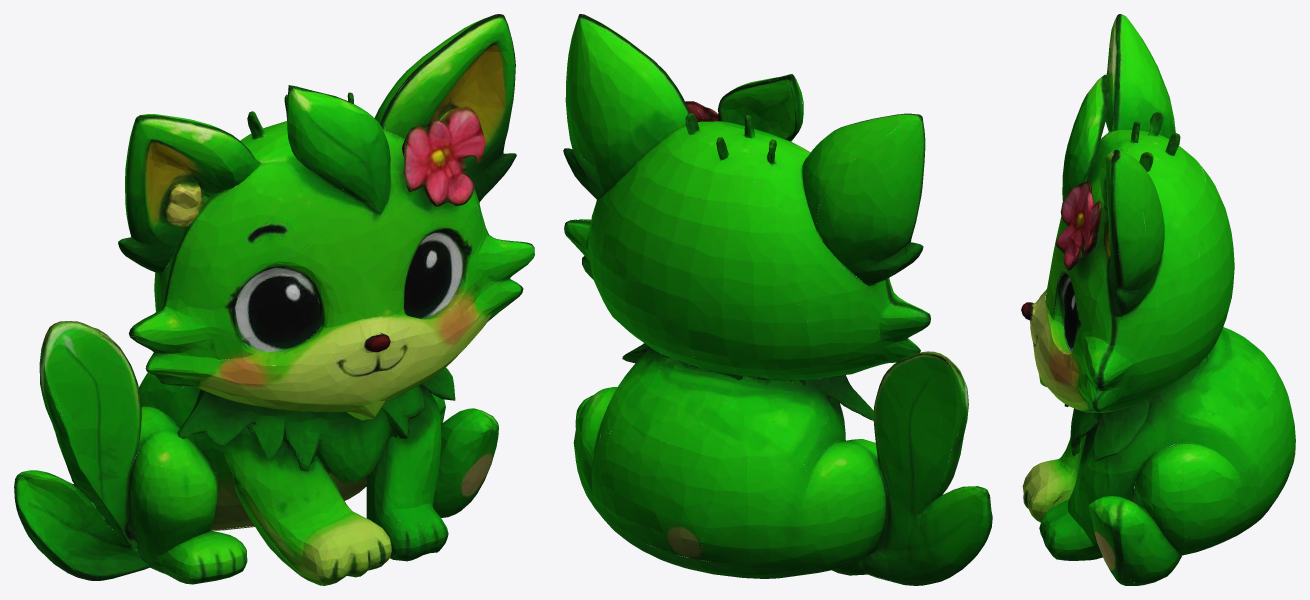
File: char-Mossi.glb
The picture shows the model from 3 angles, left to right: view 1: azimuth 30°, elevation 25°; view 2: azimuth 150°, elevation 25°; view 3: azimuth 270°, elevation 25°; orthographic projection. The views are drawn at different scales.
Visible parts, largest first — view 1: geometry_0.013; view 2: geometry_0.013; view 3: geometry_0.013.
Part boxes in pixels (left/top/right/bottom): geometry_0.013: left=14, top=14, right=534, bottom=585; geometry_0.013: left=563, top=14, right=992, bottom=585; geometry_0.013: left=1021, top=14, right=1295, bottom=585.
Bounding box in the file's own units: 1 × 0.9833 × 0.5435.
Materials: 1 (1 with a texture image).
